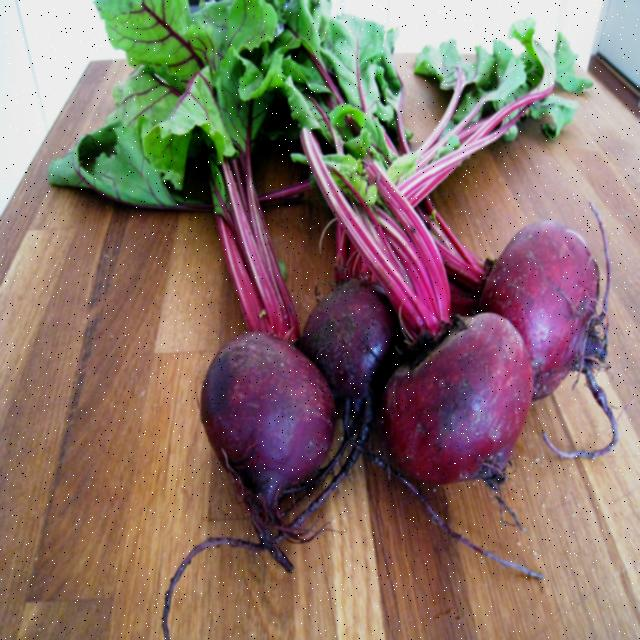Beetroot: (178, 282, 336, 528), (362, 314, 534, 505), (482, 199, 612, 399)
